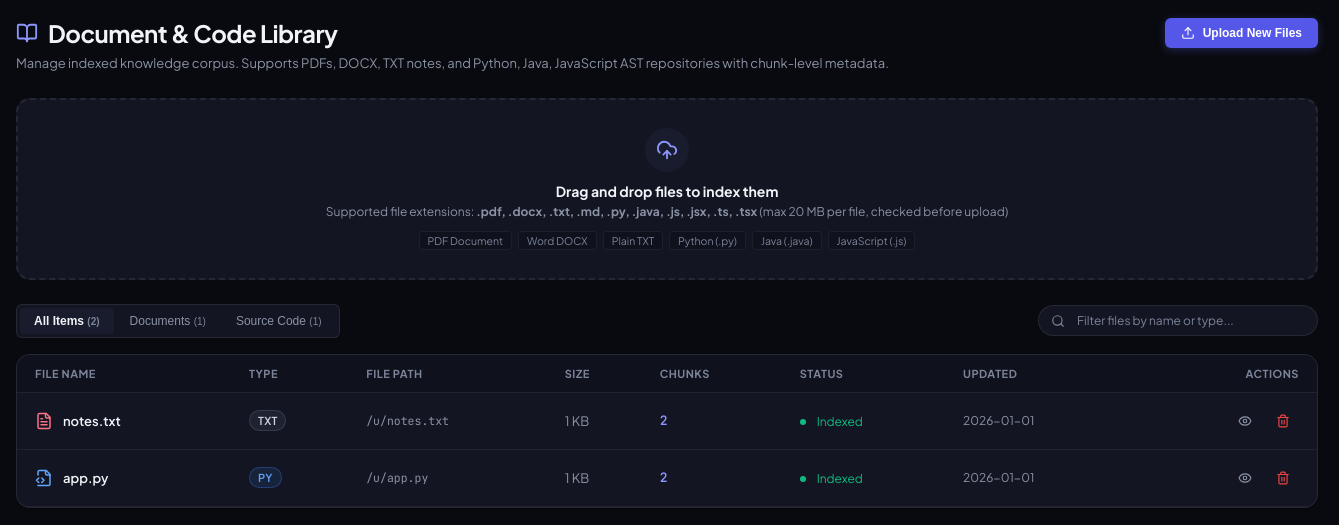
Scenario: LibraryView › filters by tab and by text
Step 1. Click the button "Source Code (1)" → (279, 320), box [222, 308, 336, 334]
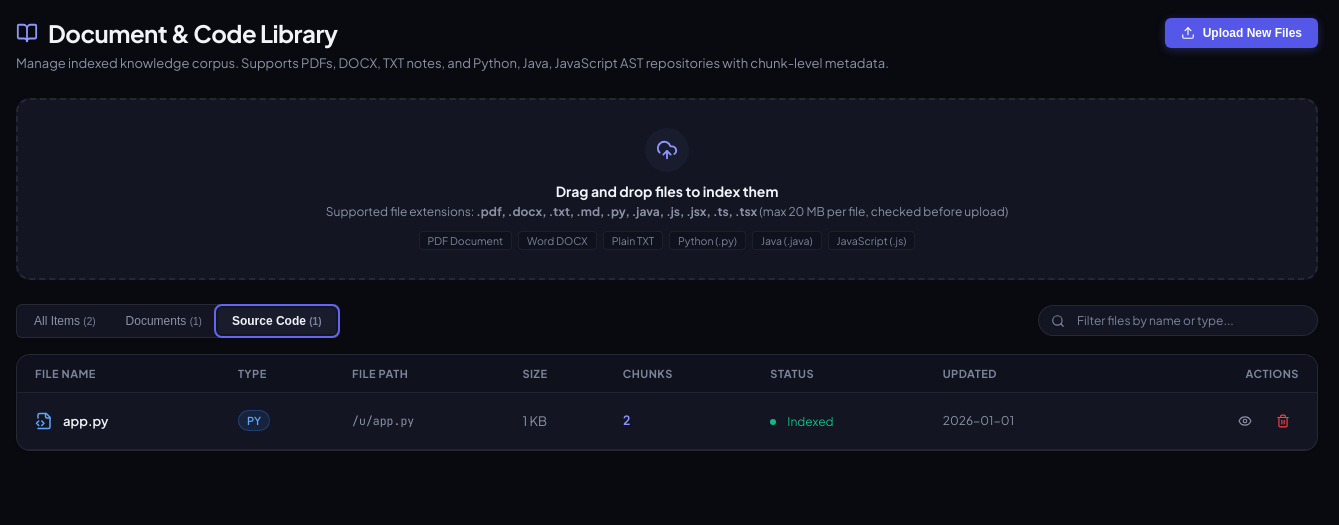
Expected: the text "app.py" is shown, [63, 412, 108, 428]
Now the text "notes.txt" is gone
Step 2. Click the button "All Items (2)" → (65, 320), box [20, 308, 110, 334]
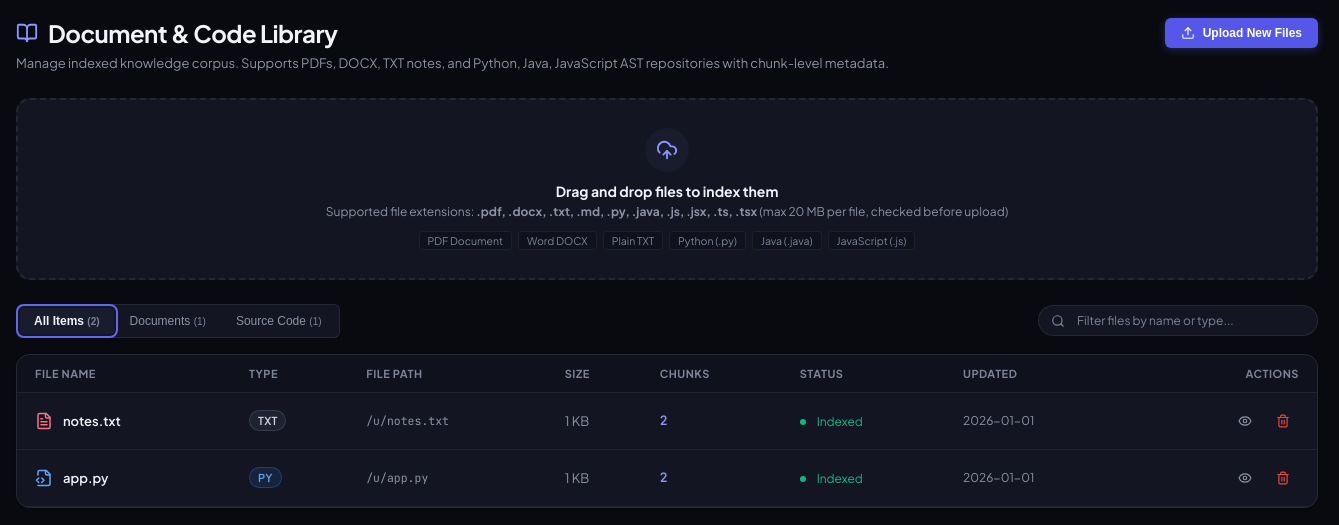
Step 3. Type "notes" into the field labelled "Filter files by name or type" → (1191, 320), box [1077, 313, 1305, 328]
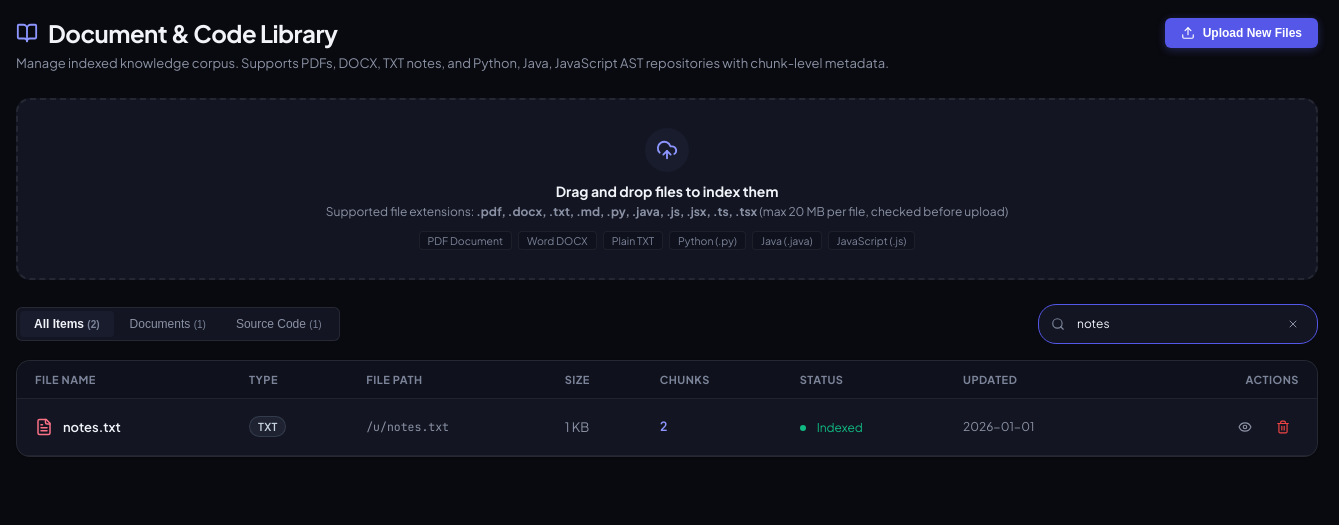
Now the text "app.py" is gone
